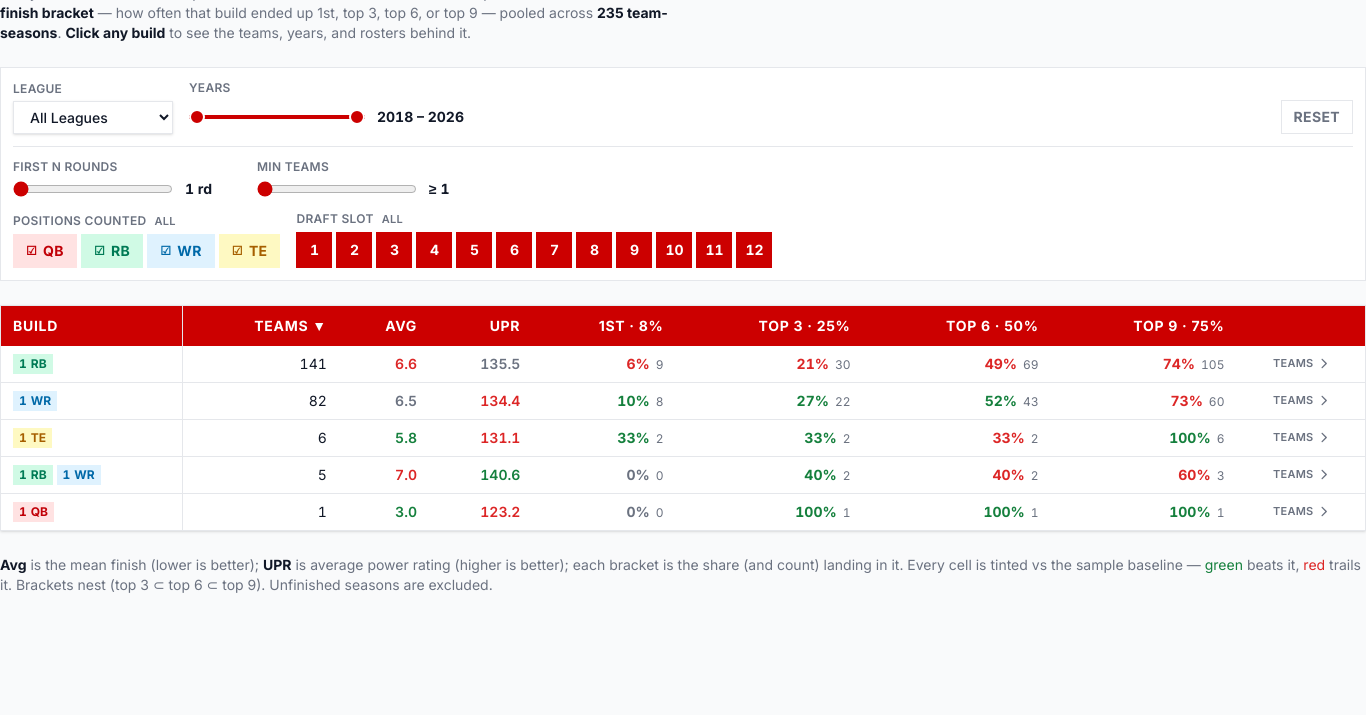
Test case: clicking a build row opens the drill-down with team-seasons
Check: the column heading "Top 6 · 50%" is shown, box [862, 306, 1051, 346]
Click the button "1 RB 141 6.6 135.5 6% 9 21% 30 49% 69 74% 105 Teams" at [92, 364], box [1, 346, 1365, 382]
(page scrolled)
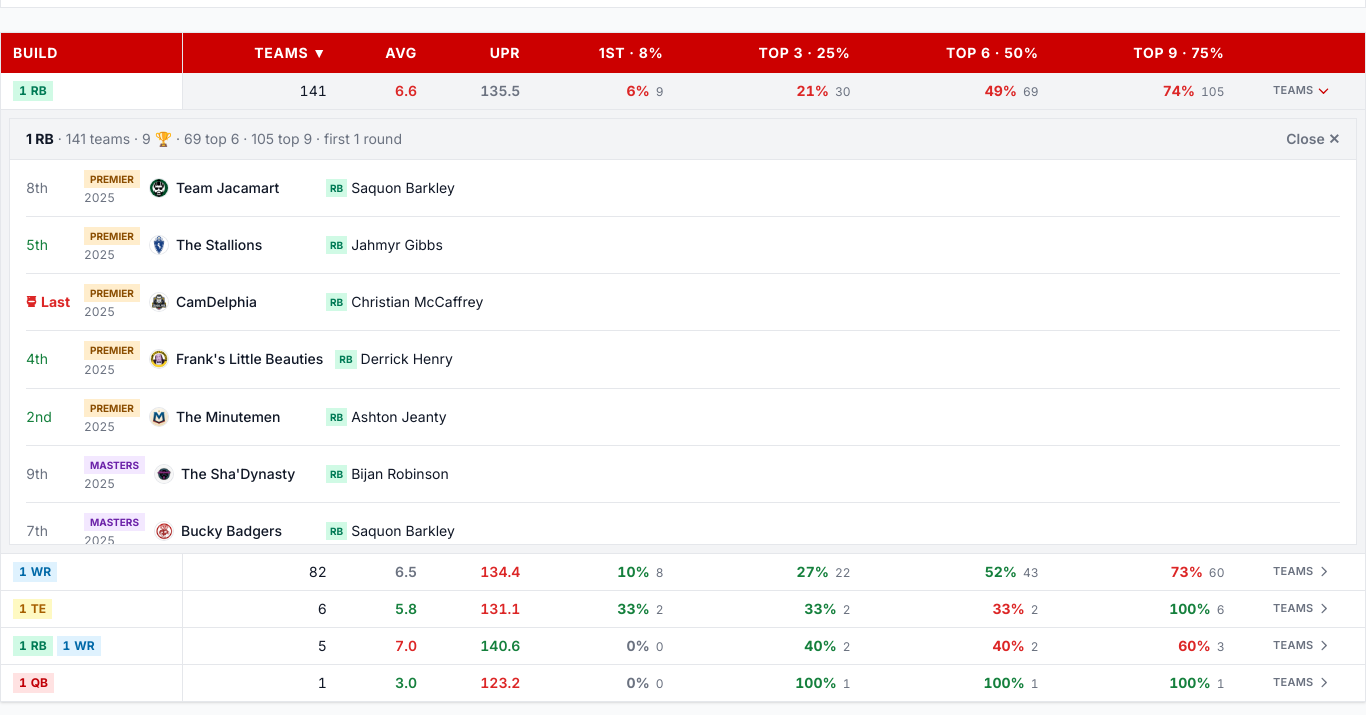
Check: the element named "Teams that drafted" is shown, box [9, 118, 1357, 544]
